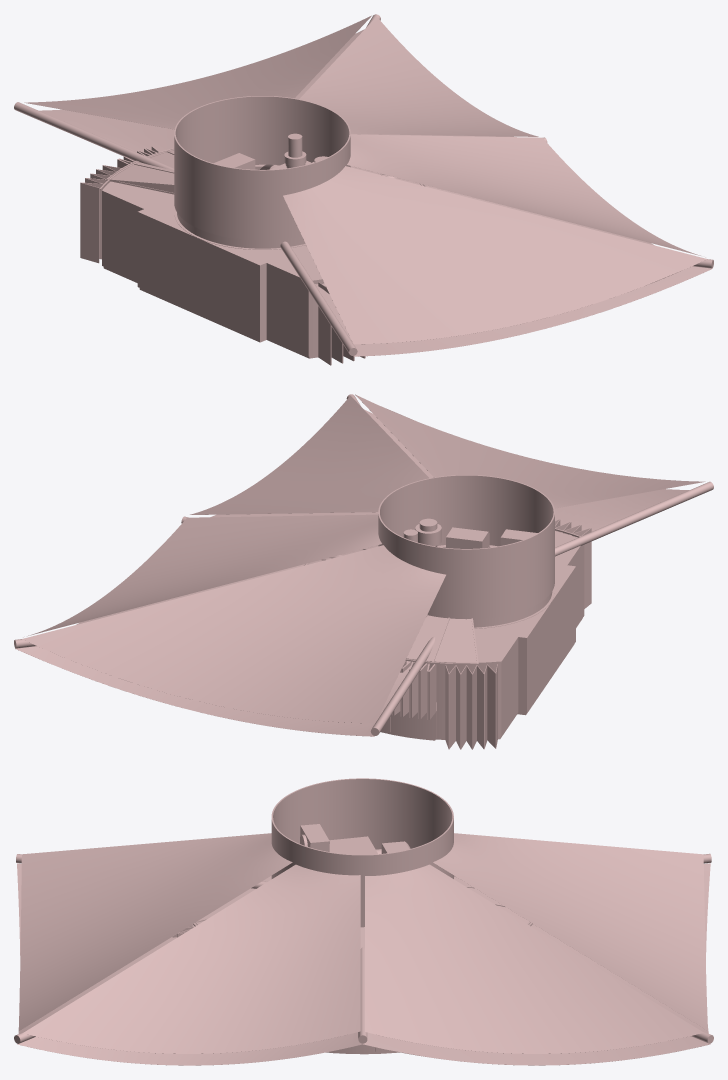
The model's file is 02-burkli.glb.
3 views of the same model, one above another, from view 1: azimuth 30°, elevation 25°; view 2: azimuth 150°, elevation 25°; view 3: azimuth 270°, elevation 25° (orthographic). The views are drawn at different scales.
Visible parts, largest first — view 1: Mesh_65.002; view 2: Mesh_65.002; view 3: Mesh_65.002.
Part boxes in pixels (x1=…): Mesh_65.002: x1=14, y1=14, x2=713, y2=365; Mesh_65.002: x1=14, y1=394, x2=713, y2=749; Mesh_65.002: x1=14, y1=778, x2=713, y2=1065.
Size of what is drawn, in the model's own units: 15243 by 5860 by 22859.
